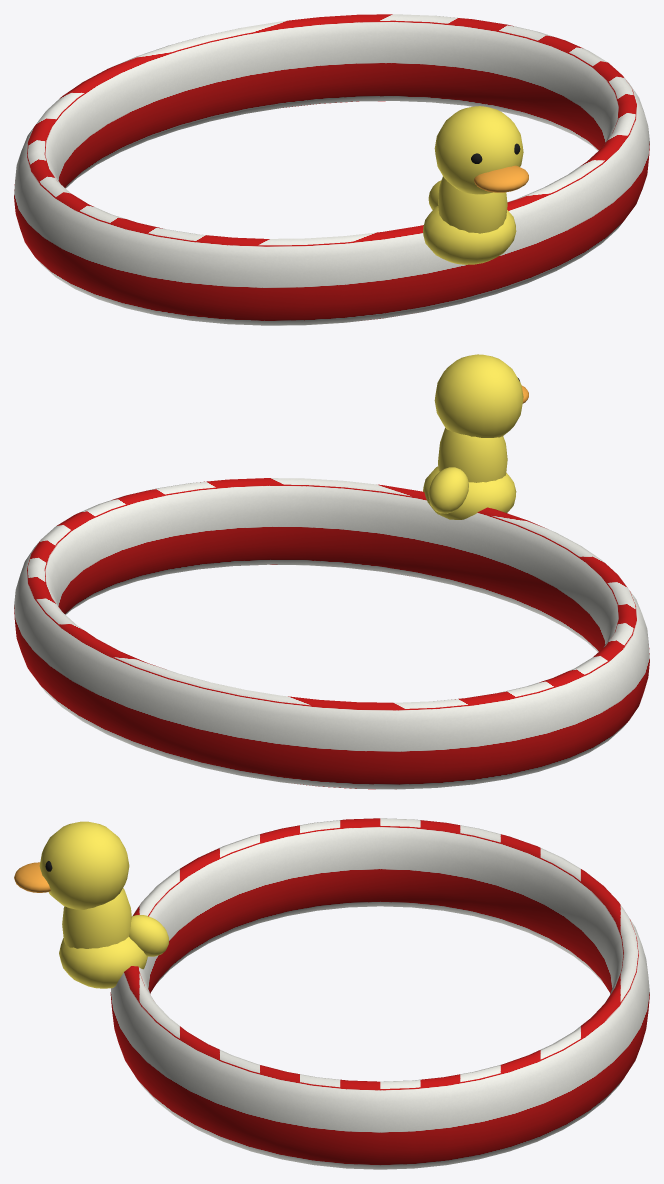
Rendered from duckring2.fbx.
The picture shows the model from 3 angles, top to bottom: view 1: azimuth 30°, elevation 25°; view 2: azimuth 150°, elevation 25°; view 3: azimuth 270°, elevation 25°; orthographic projection.
Visible parts, largest first — view 1: duckring2; view 2: duckring2; view 3: duckring2.
Part boxes in pixels (<box>): duckring2: <box>14,14,649,325</box>; duckring2: <box>14,354,649,789</box>; duckring2: <box>14,818,649,1169</box>.
Bounding box in the file's own units: 1.04 × 0.365 × 0.9914.
Materials: 4 (1 with a texture image).
